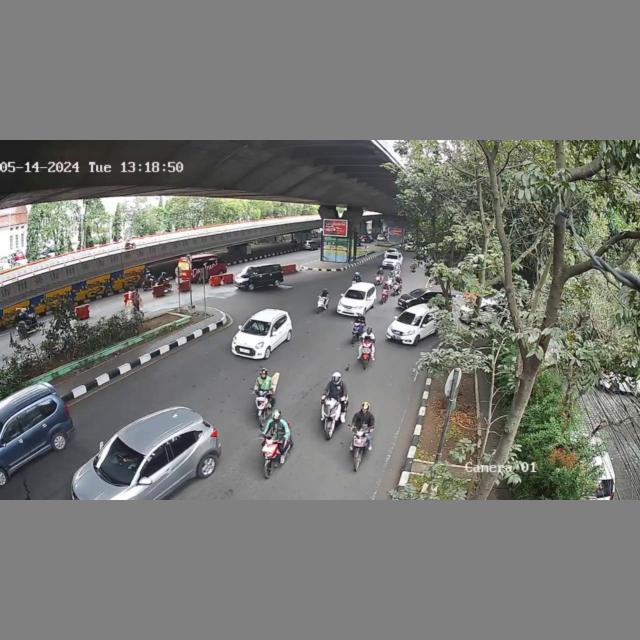windshield: (93, 434, 148, 490), (241, 317, 271, 337)
